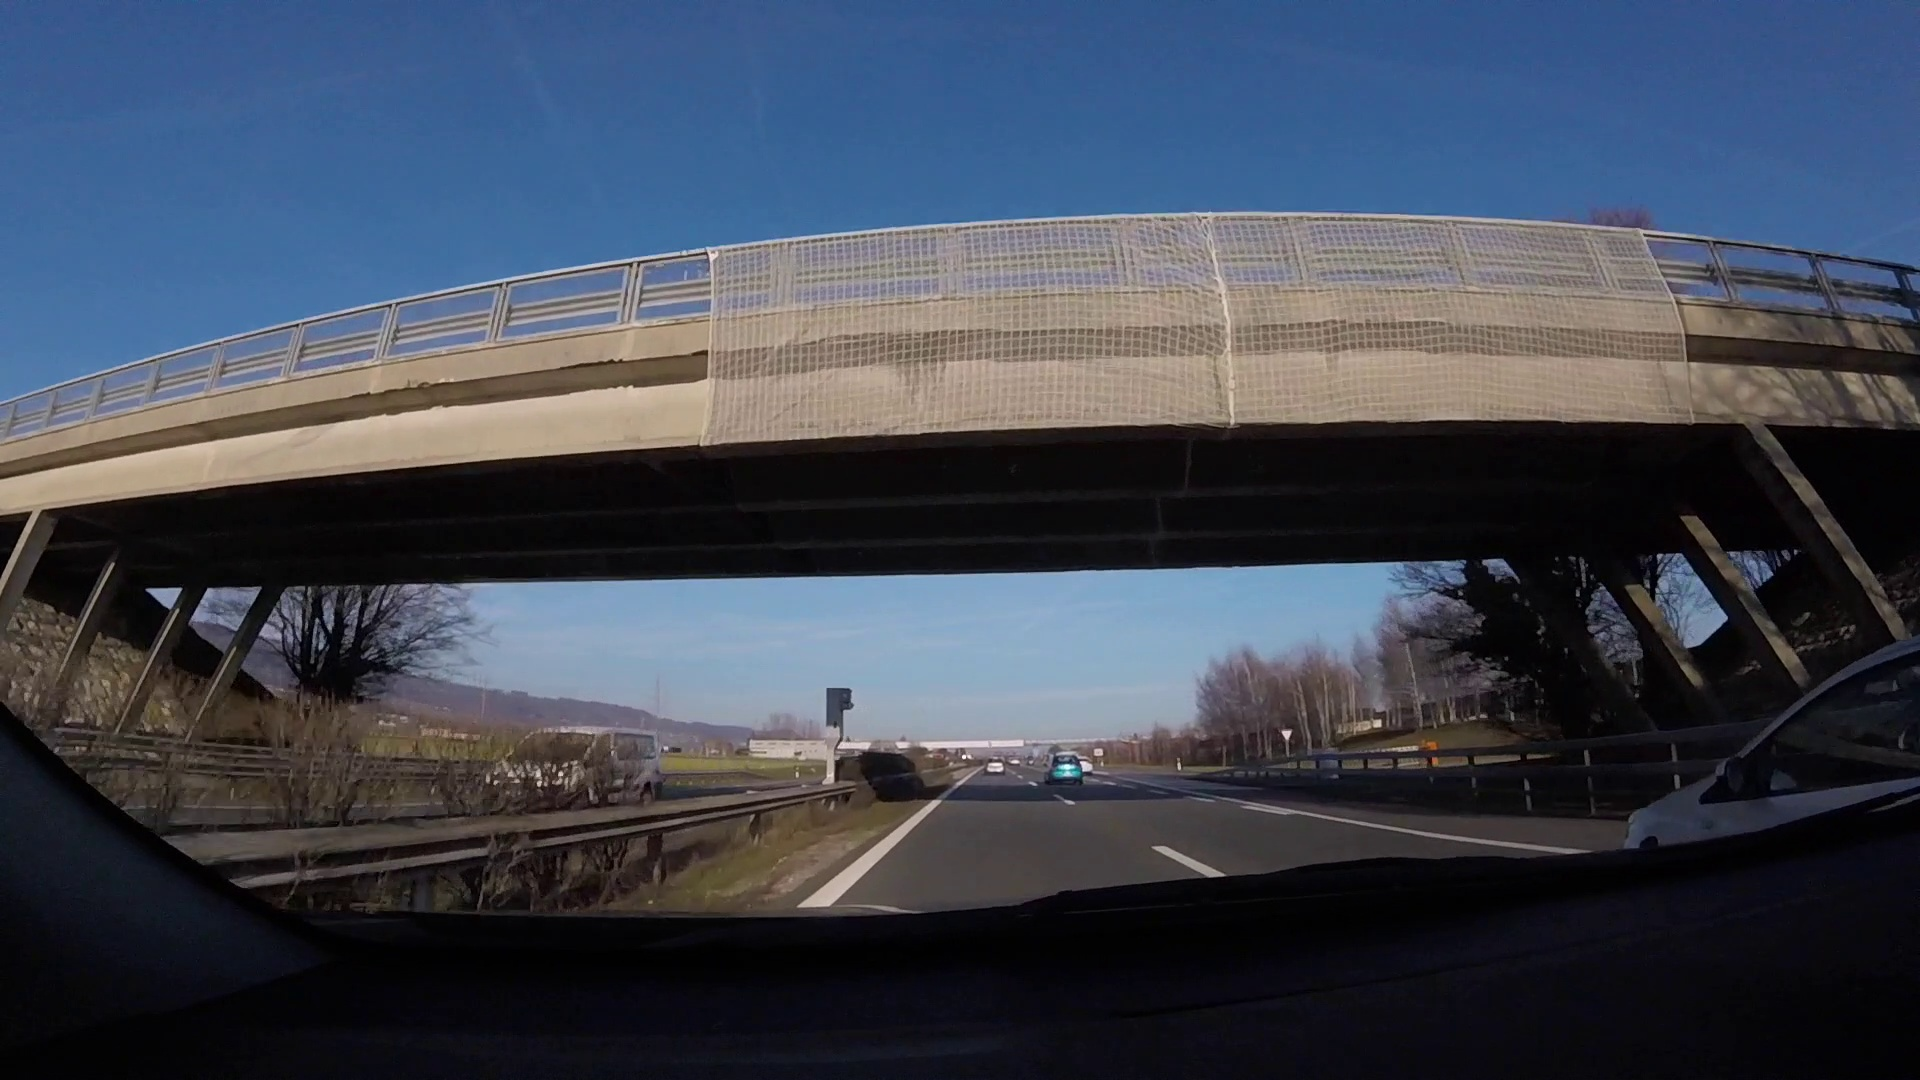radar: (824, 686, 856, 786)
